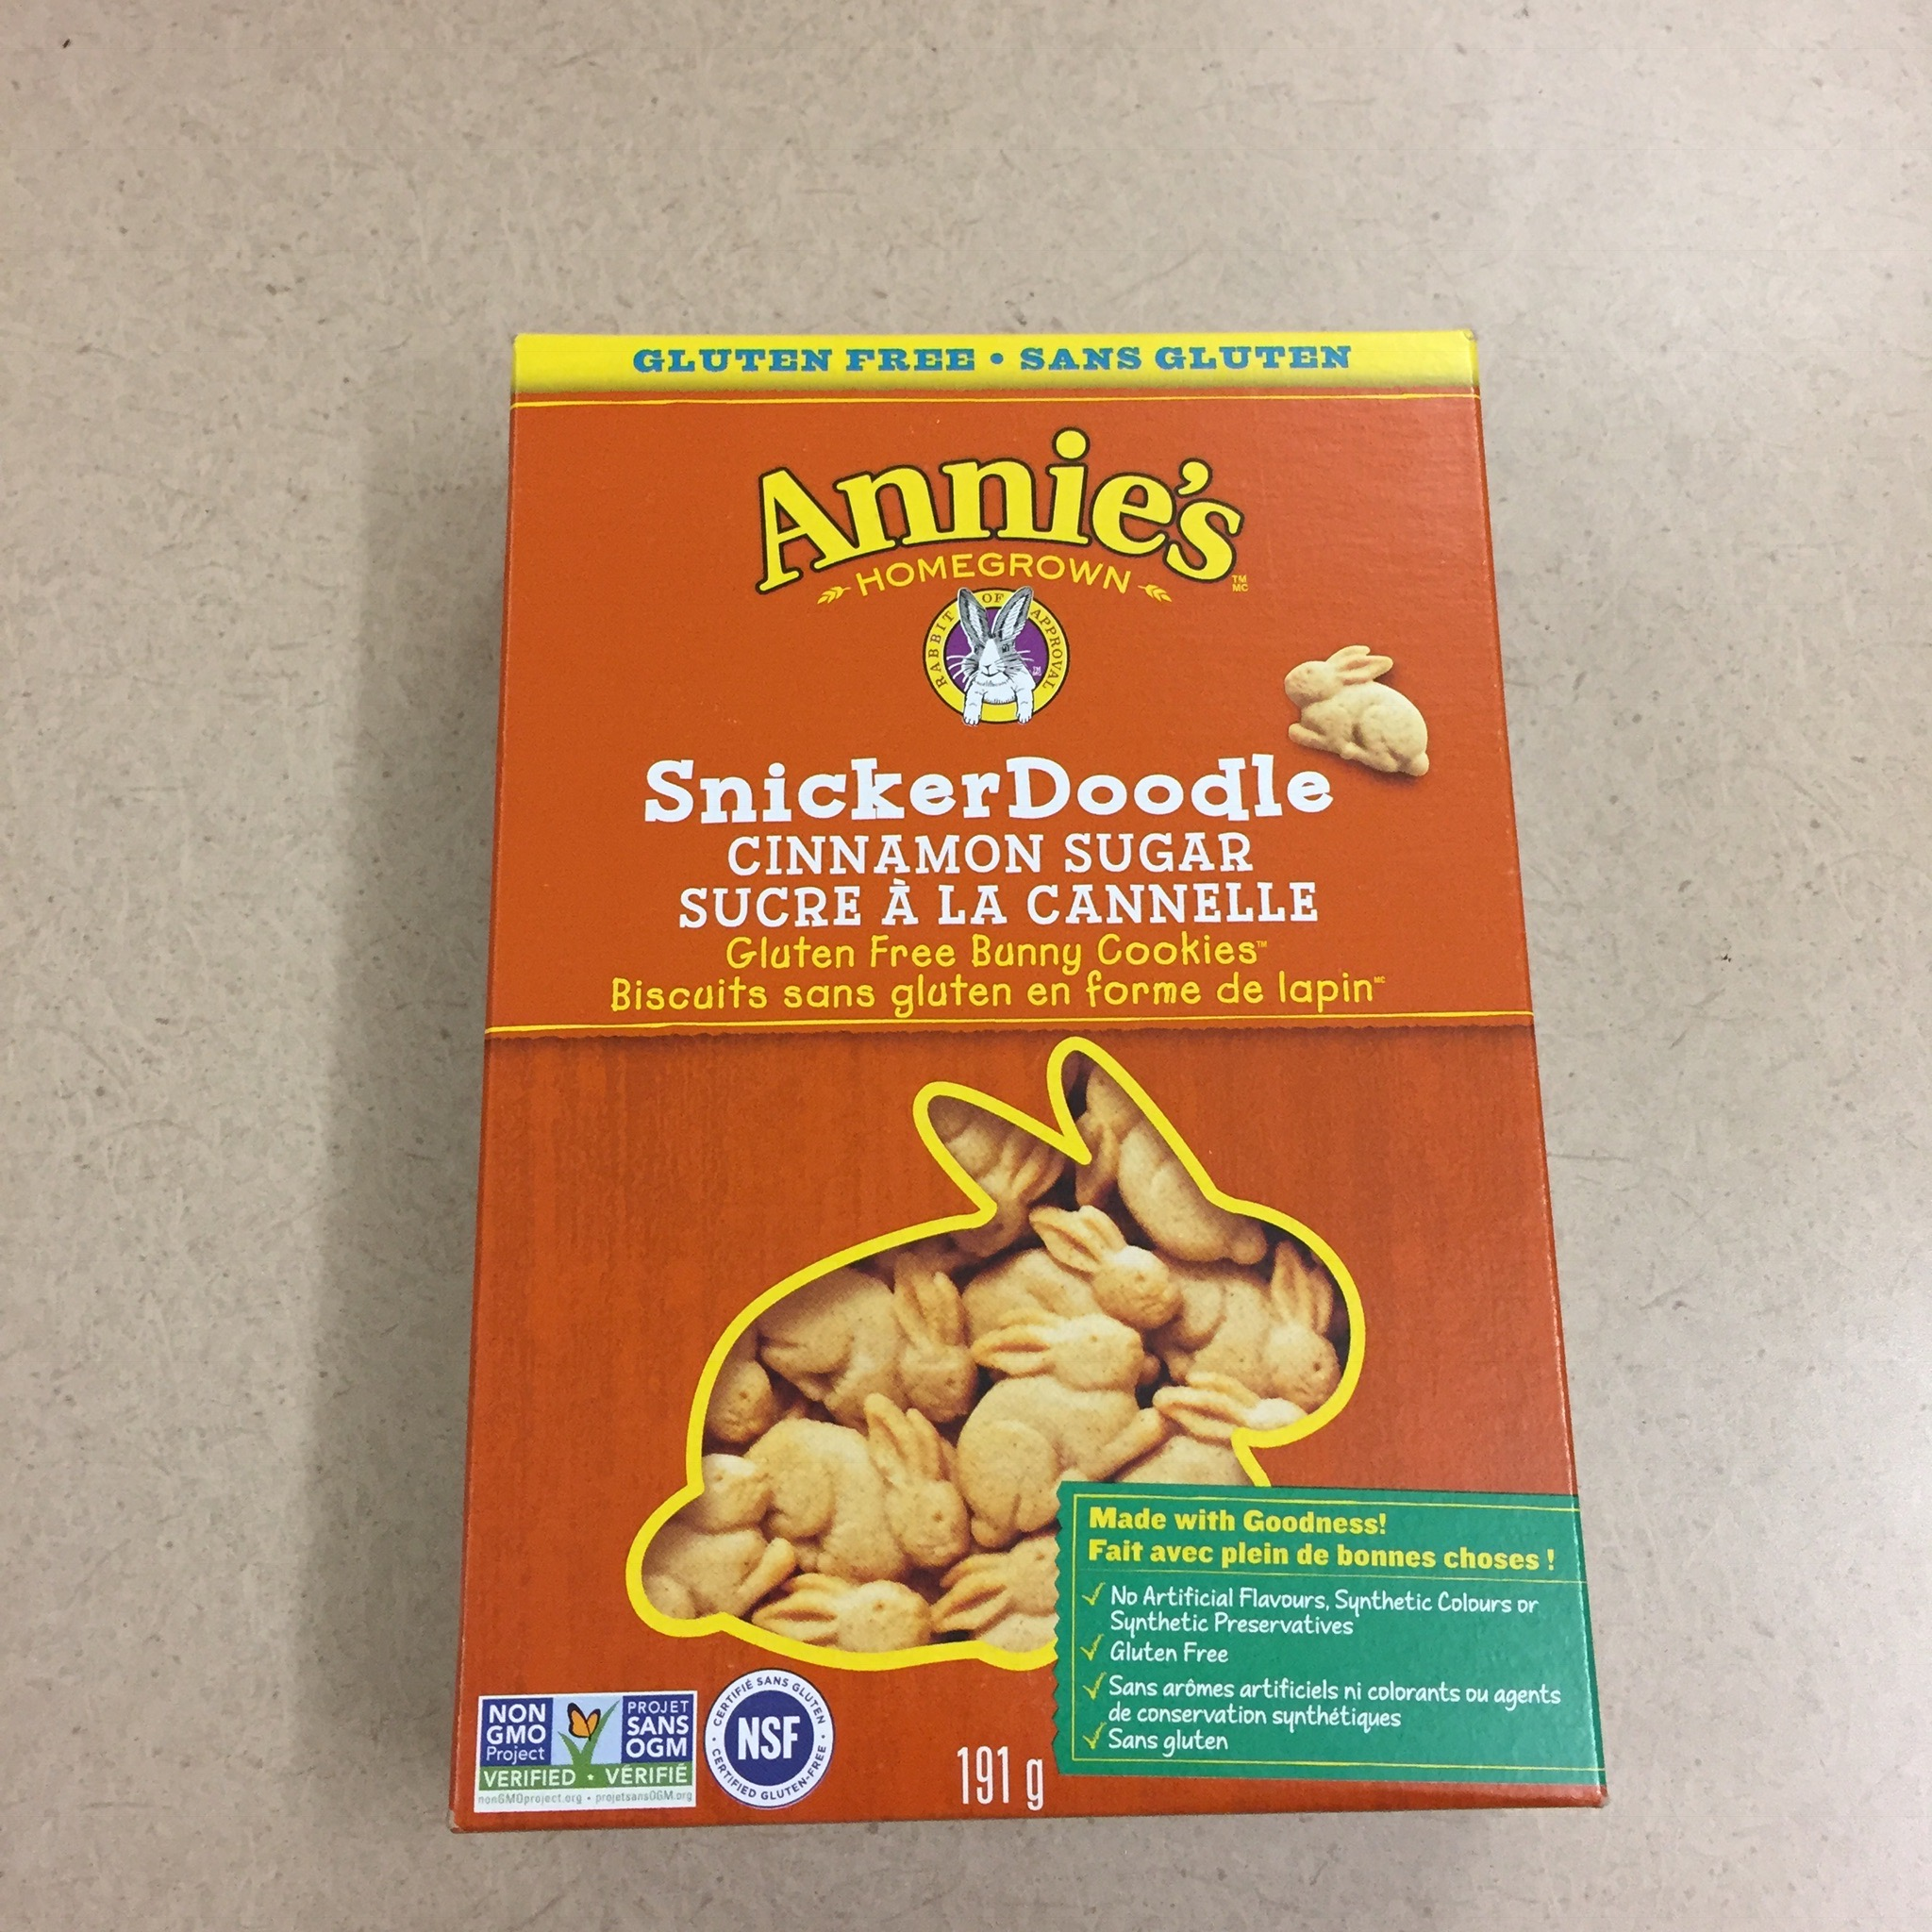annies_snickerdoodle_cinnamon_sugar: (448, 329, 1610, 1838)
